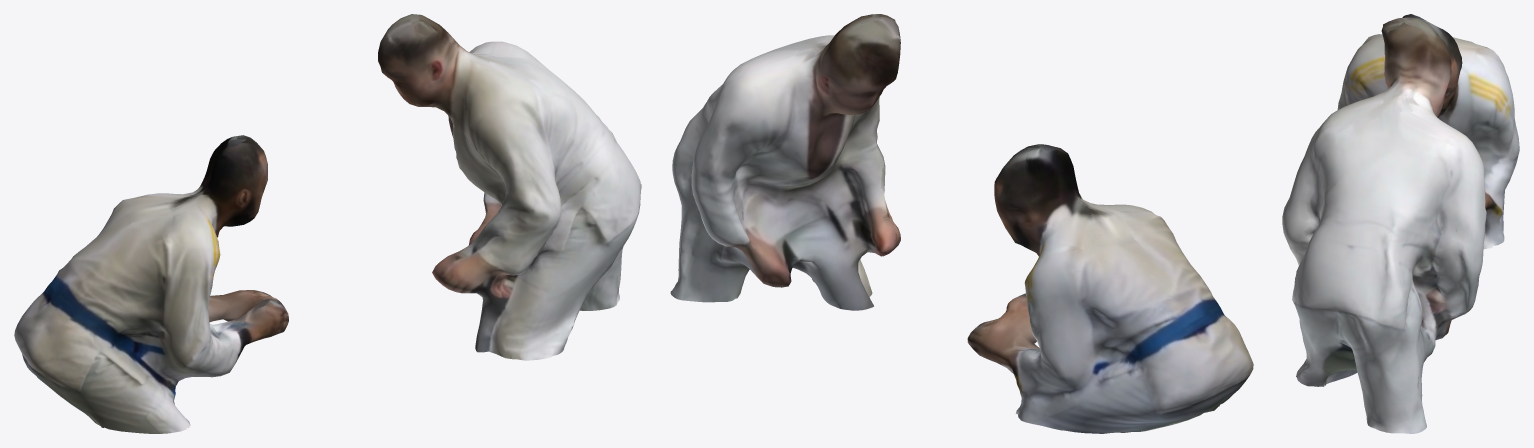
File: double-leg-2.glb
3 views of the same model, side by side, from view 1: azimuth 30°, elevation 25°; view 2: azimuth 150°, elevation 25°; view 3: azimuth 270°, elevation 25° (orthographic).
Bounding box in the file's own units: 2.52 × 1.3 × 0.8839.
1 material, 1 textured.
